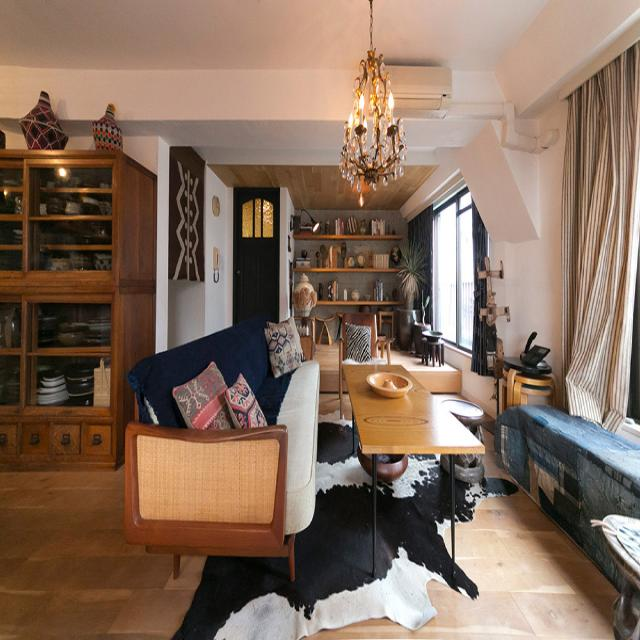vintage desk: (337, 353, 490, 598)
vintage shelf: (0, 150, 163, 476)
vintage sofa: (127, 314, 324, 590)
